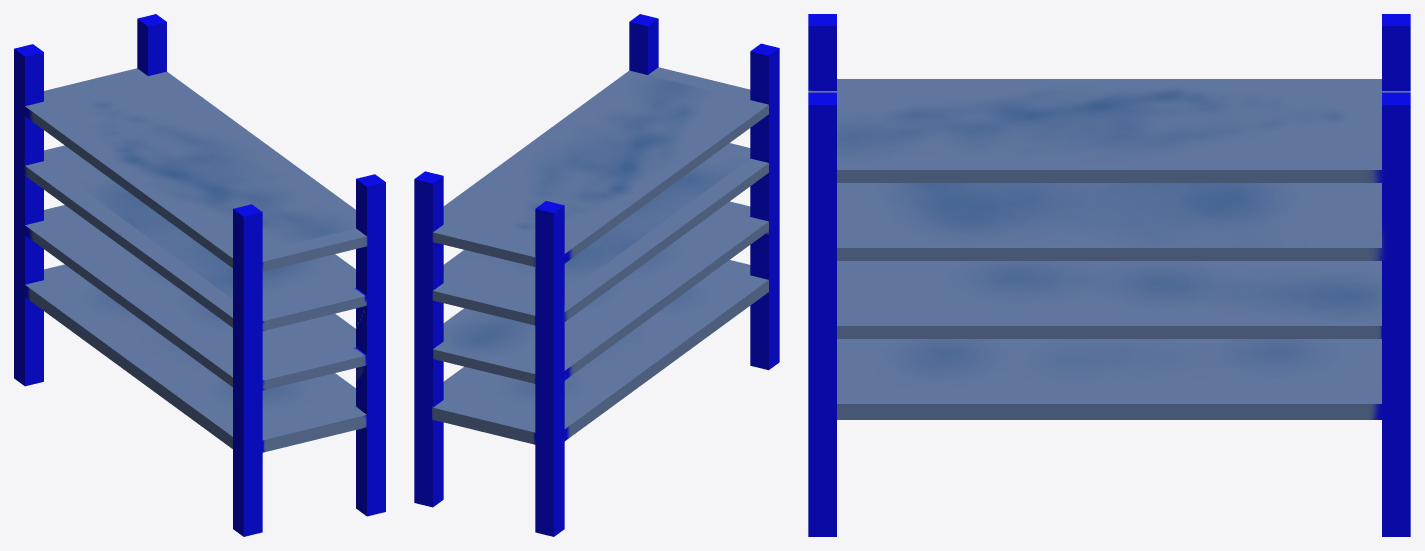
Rendered from Rack.fbx.
3 views of the same model, side by side, from view 1: azimuth 30°, elevation 25°; view 2: azimuth 150°, elevation 25°; view 3: azimuth 270°, elevation 25° (orthographic). The views are drawn at different scales.
Parts seen in each view (by area): view 1: Cube; view 2: Cube; view 3: Cube.
Part boxes in pixels (left/top/right/bottom): Cube: left=14, top=14, right=385, bottom=536; Cube: left=414, top=14, right=779, bottom=536; Cube: left=808, top=14, right=1410, bottom=536.
Size of the model in its own units: 1500 by 3325 by 4200.
Materials: 1 (1 with a texture image).
